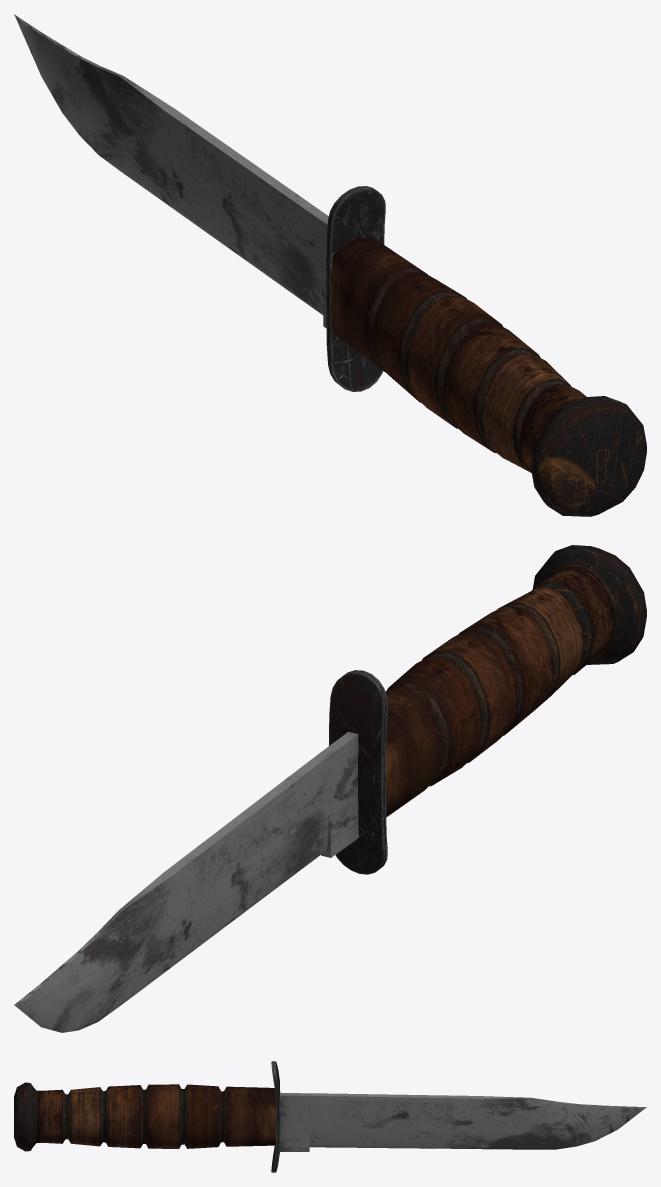
File: knife_clip.glb
The picture shows the model from 3 angles, top to bottom: view 1: azimuth 30°, elevation 25°; view 2: azimuth 150°, elevation 25°; view 3: azimuth 270°, elevation 25°; orthographic projection. The views are drawn at different scales.
Visible parts, largest first — view 1: body; view 2: body; view 3: body.
Boxes of the visible parts, x1,y1,x2,y2 form: body: (14, 14, 646, 516); body: (14, 545, 646, 1032); body: (14, 1061, 646, 1172).
Bounding box in the file's own units: 0.0329 × 0.0567 × 0.3.
Materials: 1 (1 with a texture image).
